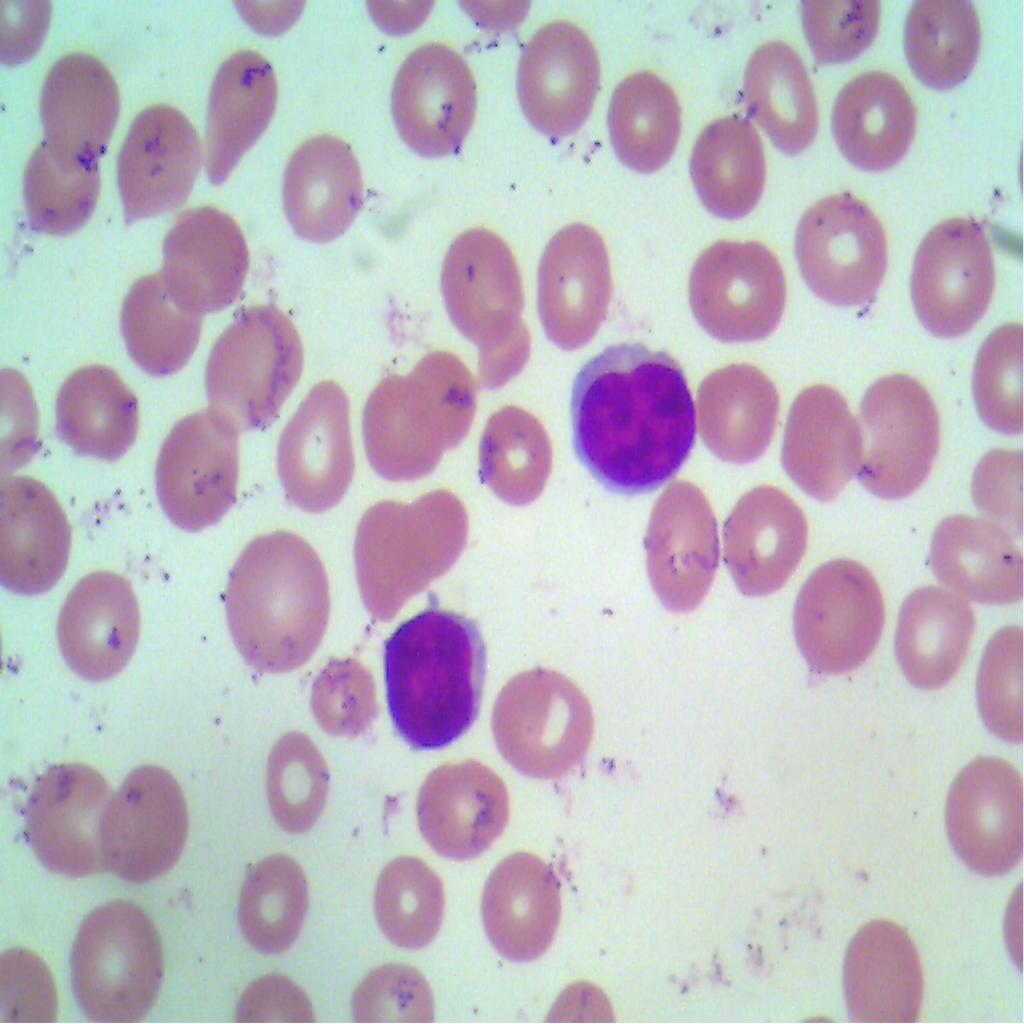Eritrosit: (212, 525, 342, 687), (194, 295, 308, 444), (836, 358, 946, 508), (722, 24, 831, 161), (6, 752, 122, 877), (926, 740, 1023, 889), (478, 847, 592, 971), (380, 28, 478, 172), (788, 180, 890, 318), (486, 660, 598, 785), (82, 754, 190, 882), (786, 554, 886, 690), (63, 891, 166, 1023), (906, 208, 996, 354), (108, 269, 214, 390), (399, 754, 514, 864), (216, 847, 323, 965), (274, 367, 358, 514), (46, 561, 146, 684), (43, 349, 146, 467), (678, 238, 791, 344), (824, 64, 922, 186), (509, 25, 608, 145), (723, 475, 811, 608), (640, 468, 722, 610), (198, 40, 276, 189), (538, 219, 622, 357), (835, 912, 938, 1023), (436, 221, 526, 348), (281, 118, 364, 255), (603, 60, 688, 186), (882, 577, 975, 692), (109, 104, 201, 218), (41, 45, 123, 172), (929, 502, 1023, 612), (0, 471, 76, 607), (678, 117, 776, 222), (256, 712, 333, 842), (349, 482, 419, 625), (780, 374, 858, 502), (155, 418, 238, 538), (466, 401, 558, 509), (155, 211, 256, 308), (354, 371, 440, 481), (698, 364, 784, 465), (18, 138, 104, 236), (895, 0, 978, 100), (366, 847, 440, 958), (392, 487, 470, 588), (403, 354, 479, 448), (963, 321, 1023, 437), (308, 657, 386, 745)
Limfoblast: (375, 586, 494, 764), (566, 343, 701, 492)
